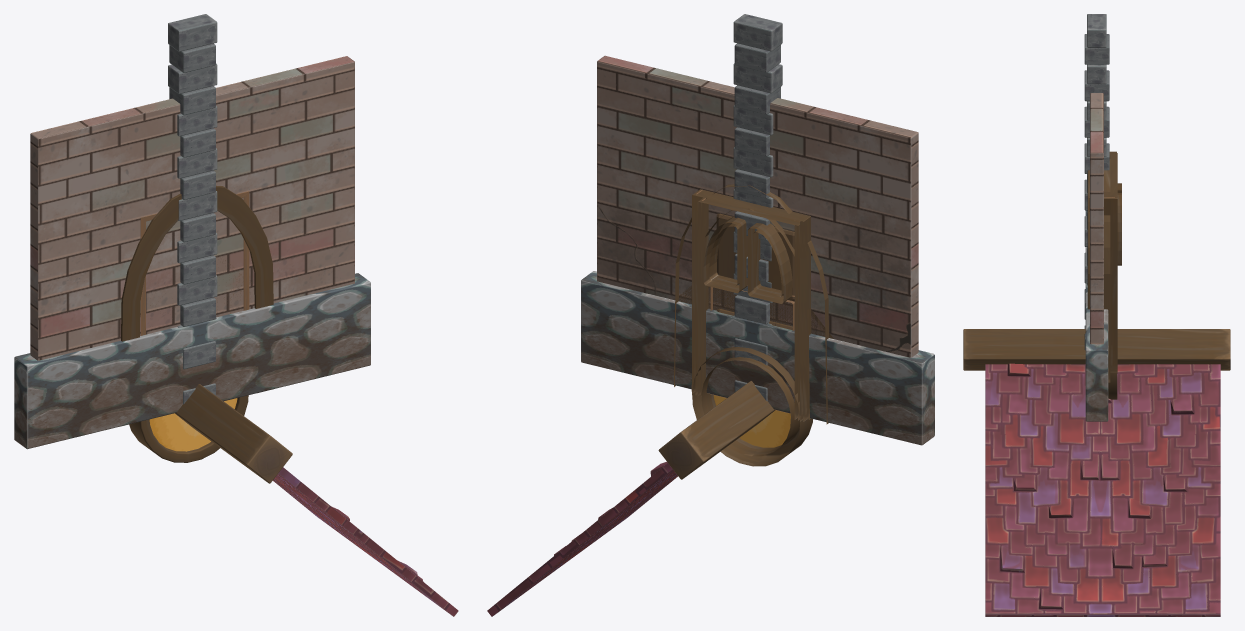
The model's file is bloco_casa_rico.fbx.
3 renders of one model, left to right at view 1: azimuth 30°, elevation 25°; view 2: azimuth 150°, elevation 25°; view 3: azimuth 270°, elevation 25°, orthographic. The views are drawn at different scales.
Parts seen in each view (by area): view 1: Parede_Rico, Bloco_Pedra_Fundacao, Tijolos_Pedra, Porta_Curvada_Rico, Madeira_Telhado_Cima_Rico, Telhado_Casa_Rico, Janela_Cima_rico.001, Janela_Cima_rico, Porta_Rico_03; view 2: Parede_Rico, Bloco_Pedra_Fundacao, Tijolos_Pedra, Porta_Rico_02, Porta_Curvada_Rico, Madeira_Telhado_Cima_Rico, Janela_Cima_rico, Telhado_Casa_Rico, Porta_Rico_01, Suporte_Telhado_Rico, Janela_Cima_rico.001; view 3: Telhado_Casa_Rico, Madeira_Telhado_Cima_Rico, Parede_Rico, Tijolos_Pedra, Bloco_Pedra_Fundacao, Porta_Curvada_Rico, Porta_Rico_01.
Boxes of the visible parts, x1,y1,x2,y2 form: Parede_Rico: (30, 56, 354, 360); Bloco_Pedra_Fundacao: (14, 273, 370, 449); Tijolos_Pedra: (168, 14, 217, 404); Porta_Curvada_Rico: (121, 185, 273, 423); Madeira_Telhado_Cima_Rico: (175, 384, 292, 483); Telhado_Casa_Rico: (273, 467, 458, 616); Janela_Cima_rico.001: (149, 398, 237, 451); Janela_Cima_rico: (129, 395, 248, 462); Porta_Rico_03: (140, 191, 249, 335); Parede_Rico: (597, 55, 918, 357); Bloco_Pedra_Fundacao: (581, 271, 934, 445); Tijolos_Pedra: (733, 14, 782, 401); Porta_Rico_02: (695, 190, 810, 421); Porta_Curvada_Rico: (674, 184, 828, 424); Madeira_Telhado_Cima_Rico: (658, 381, 775, 479); Janela_Cima_rico: (692, 347, 812, 466); Telhado_Casa_Rico: (487, 461, 677, 616); Porta_Rico_01: (692, 189, 803, 421); Suporte_Telhado_Rico: (674, 285, 833, 338); Janela_Cima_rico.001: (713, 395, 790, 447); Telhado_Casa_Rico: (985, 363, 1220, 616); Madeira_Telhado_Cima_Rico: (963, 329, 1230, 370); Parede_Rico: (1090, 93, 1103, 344); Tijolos_Pedra: (1084, 14, 1109, 350); Bloco_Pedra_Fundacao: (1085, 210, 1108, 421); Porta_Curvada_Rico: (1087, 155, 1121, 382); Porta_Rico_01: (1104, 153, 1117, 372).
Size of the model in its own units: 383 by 583 by 276.
